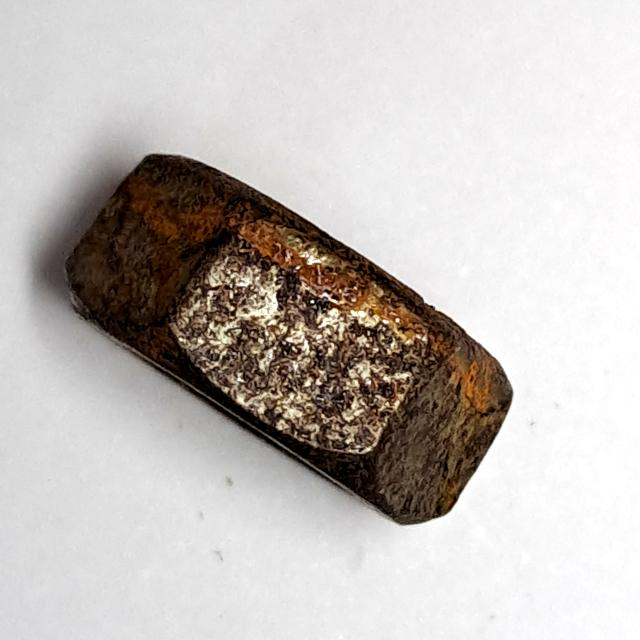Side_Rust: (53, 145, 527, 537)
